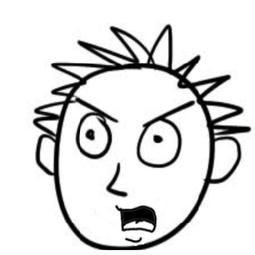ear: (202, 135, 248, 188), (33, 134, 66, 180)
eye: (136, 116, 186, 172), (69, 110, 114, 162)
frowning_eyebrow: (143, 99, 195, 126), (78, 98, 117, 123)
open_mouth: (107, 203, 162, 234)
pointy_nose: (103, 160, 130, 199)
